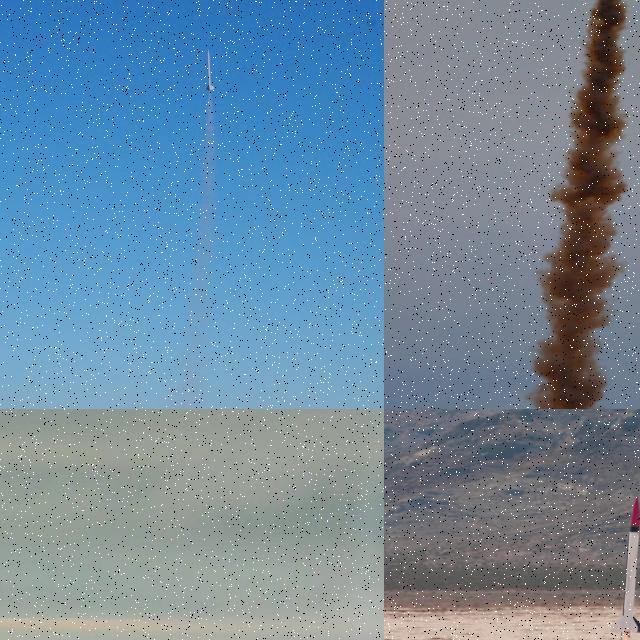Rocket: (610, 495, 640, 634), (204, 49, 216, 91)
